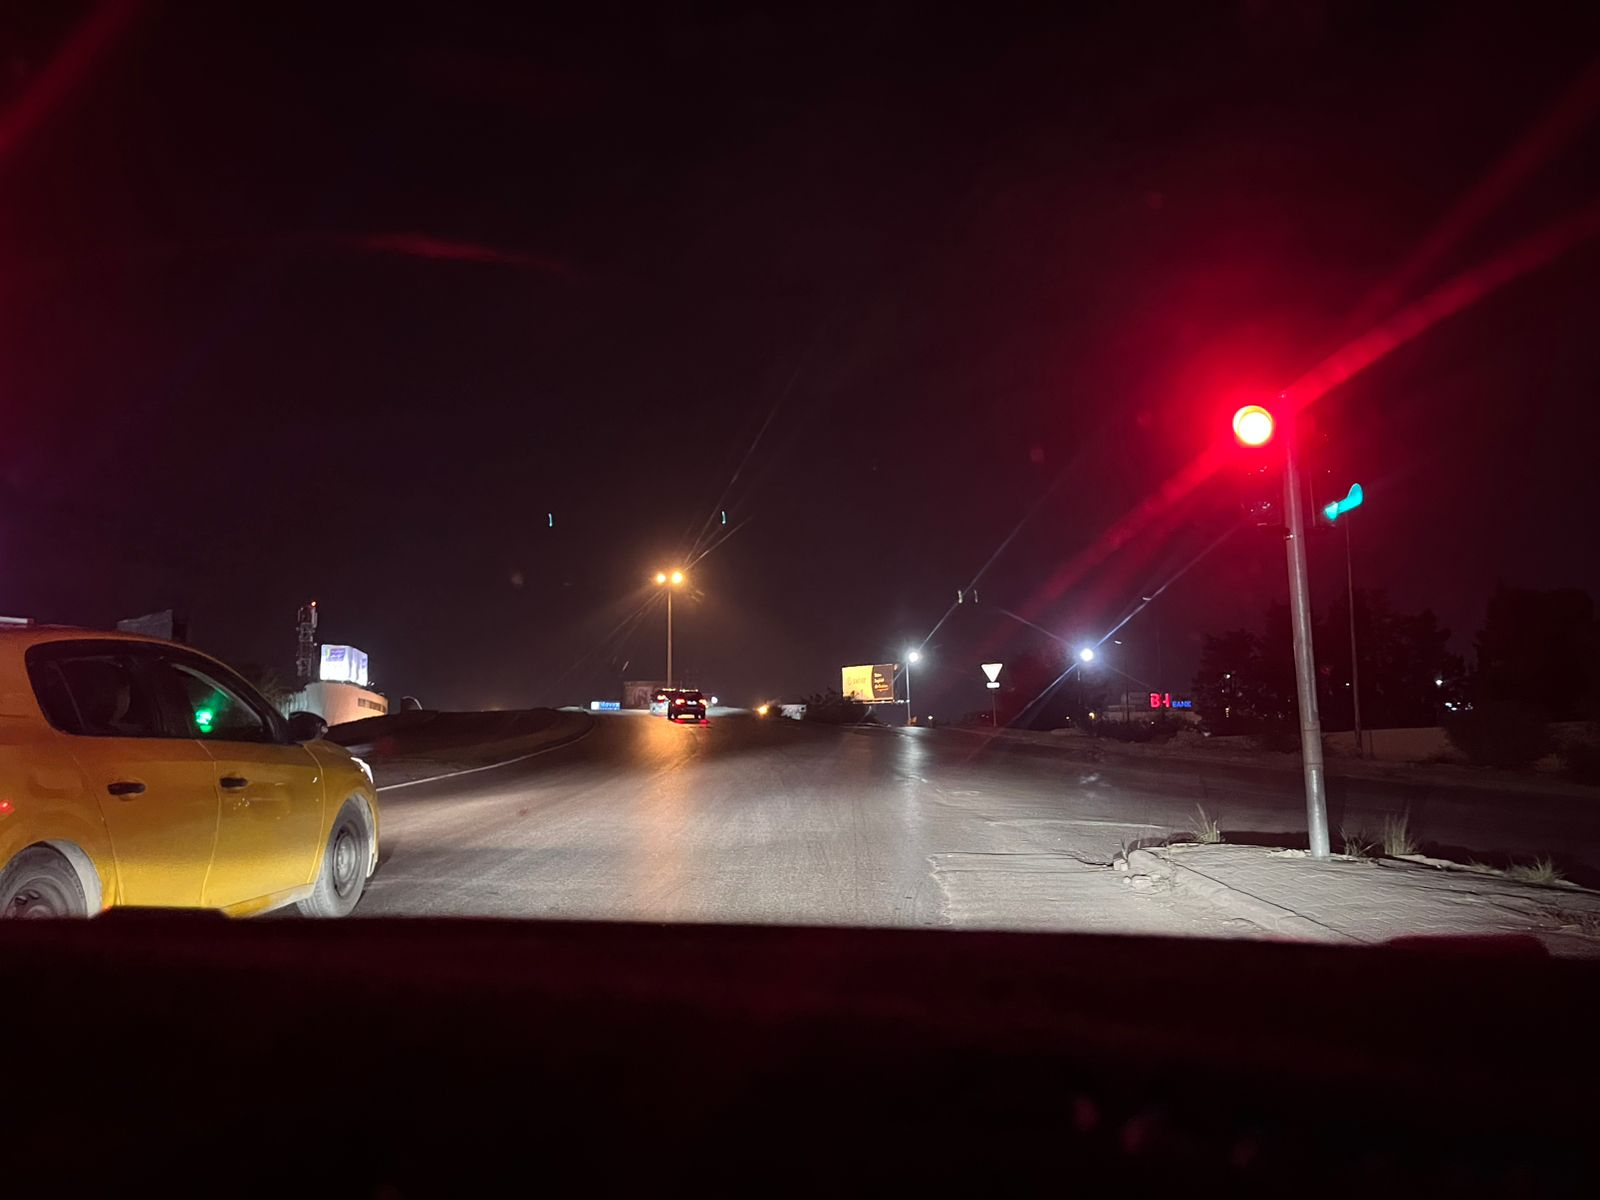RedLight: (1214, 401, 1286, 538)
